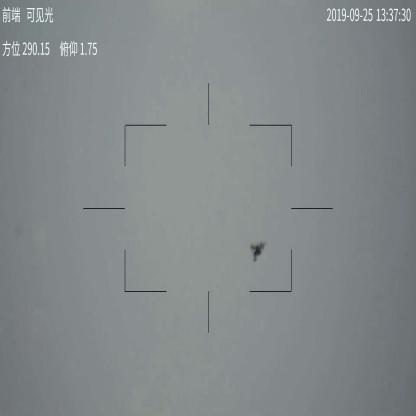uav: (246, 240, 265, 264)
